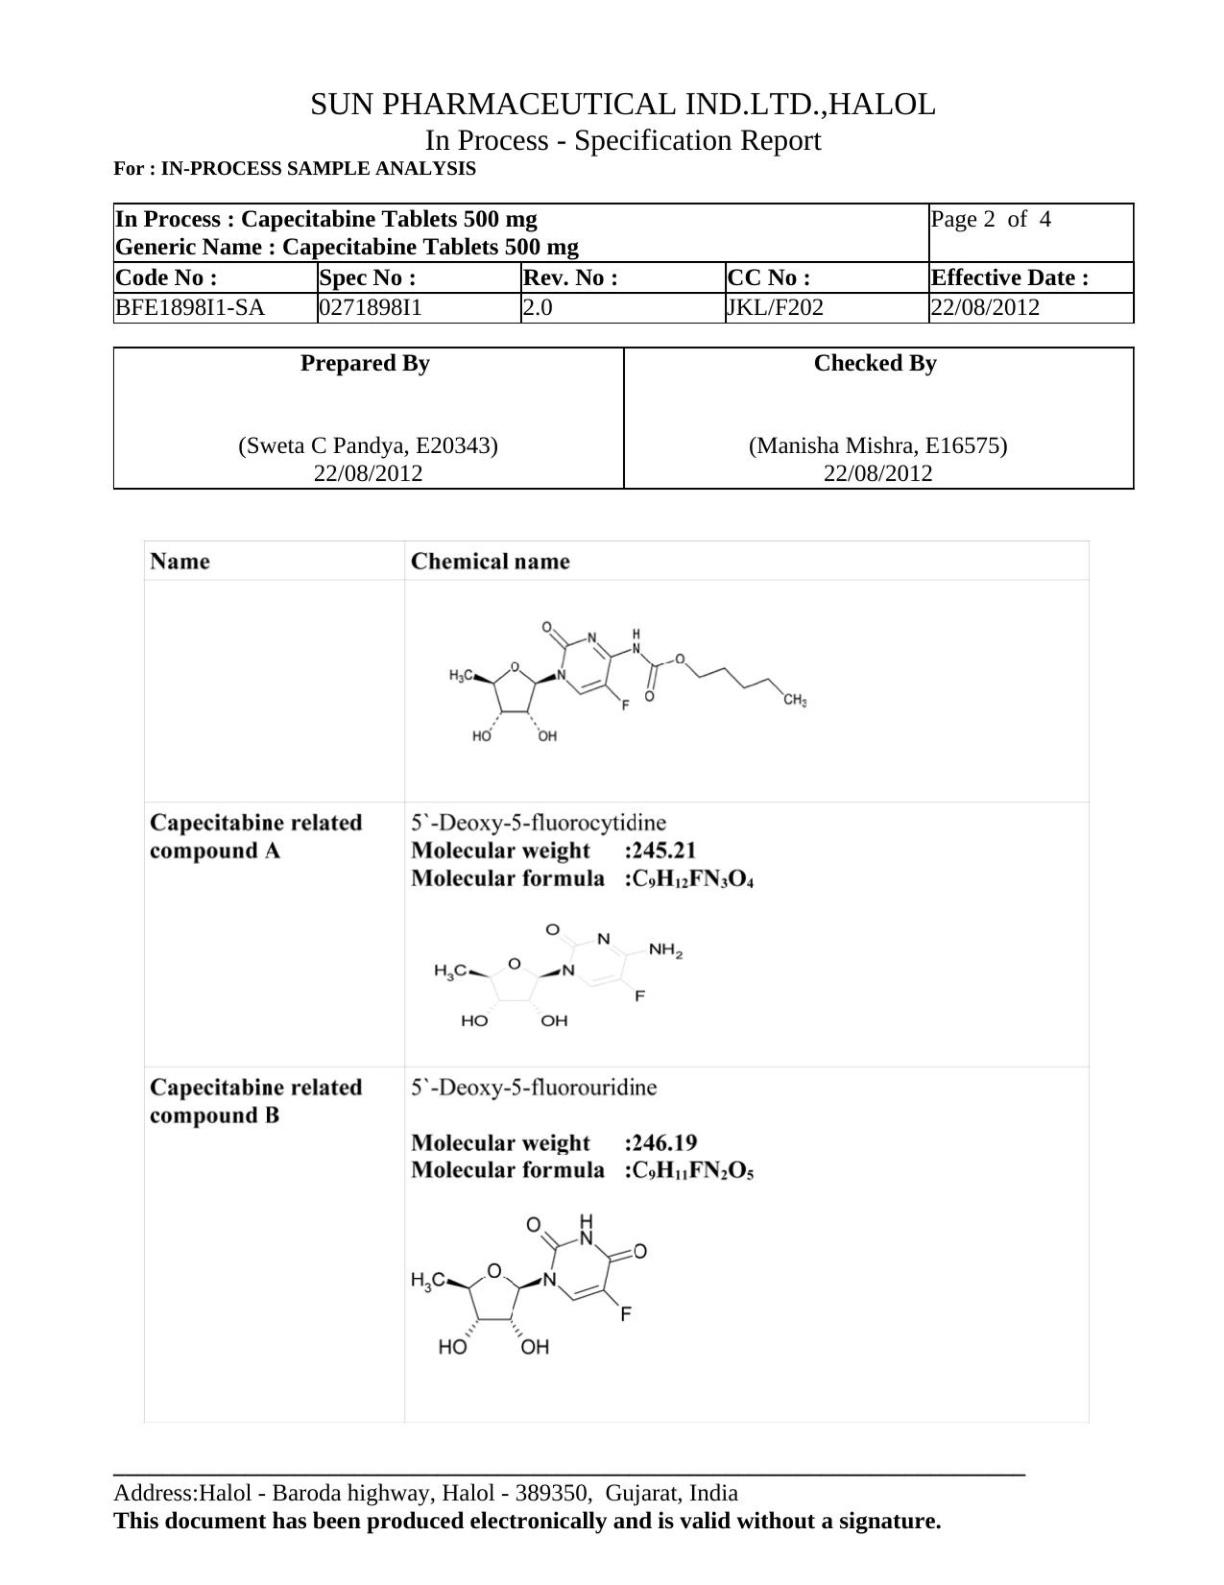full_lined: (143, 539, 1092, 1426), (112, 345, 1137, 492)
merged_cells: (111, 201, 1135, 325)
